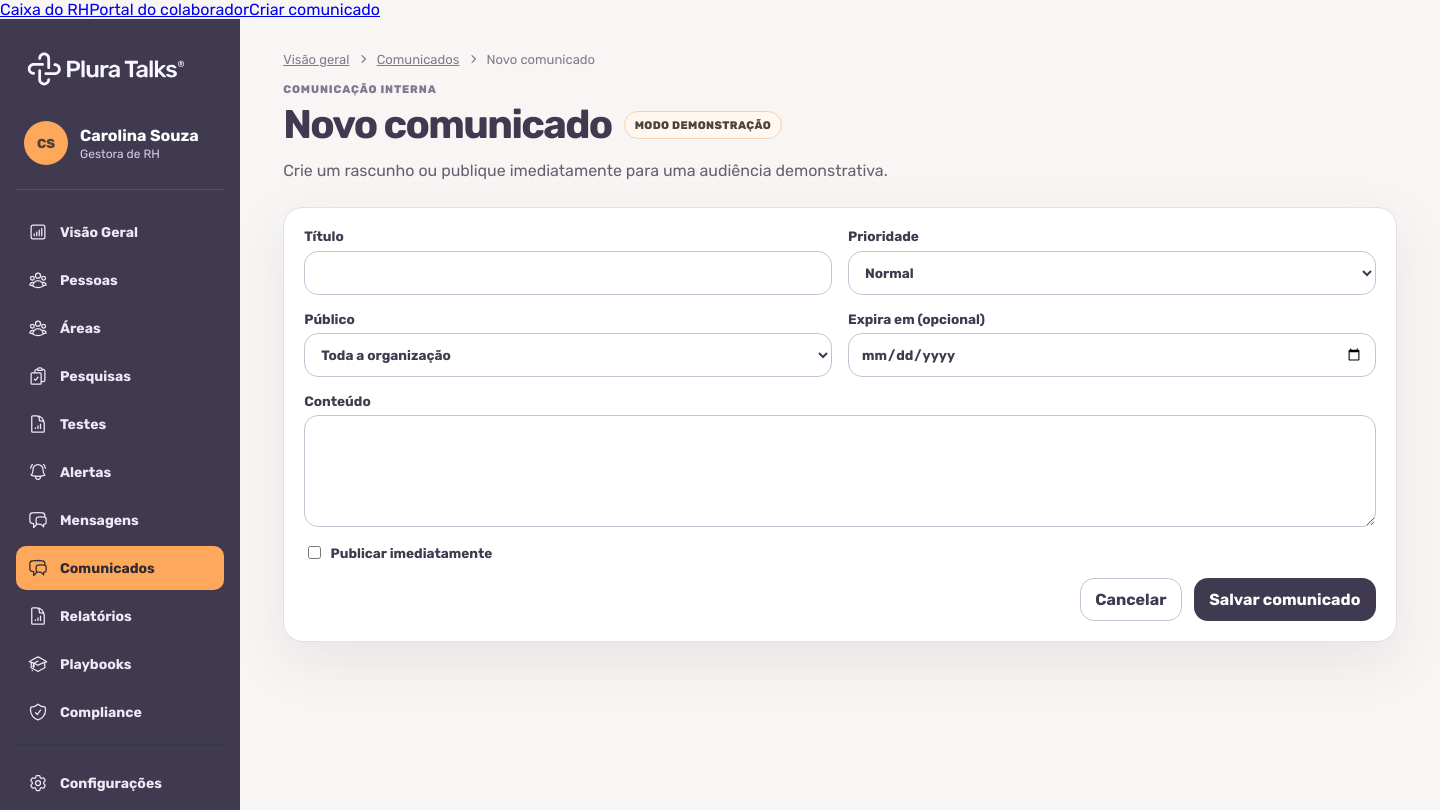
Test: estado compartilhado de mensagens › publica comunicado segmentado e o mostra ao colaborador elegível
This screenshot has width=1440, height=810.
Step 1. Type "Oficina do time de Produto" into the field labelled "Título" → (568, 273), box [304,251,832,295]
Step 2. Select "Áreas selecionadas" in the dropdown labelled "Público" → (568, 355), box [304,333,832,377]
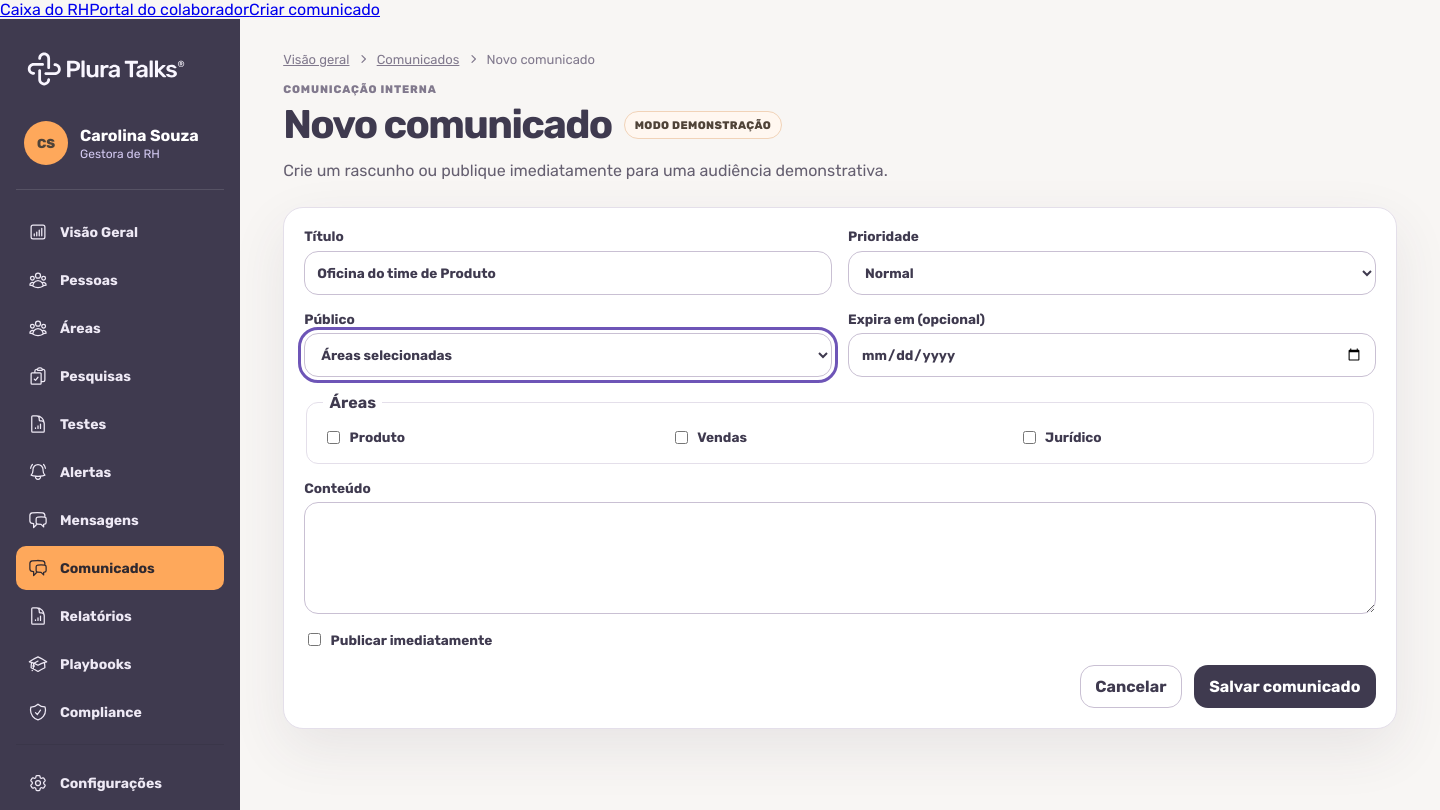
Step 3. Click the checkbox labelled "Produto" → (334, 438), box [327,431,340,444]
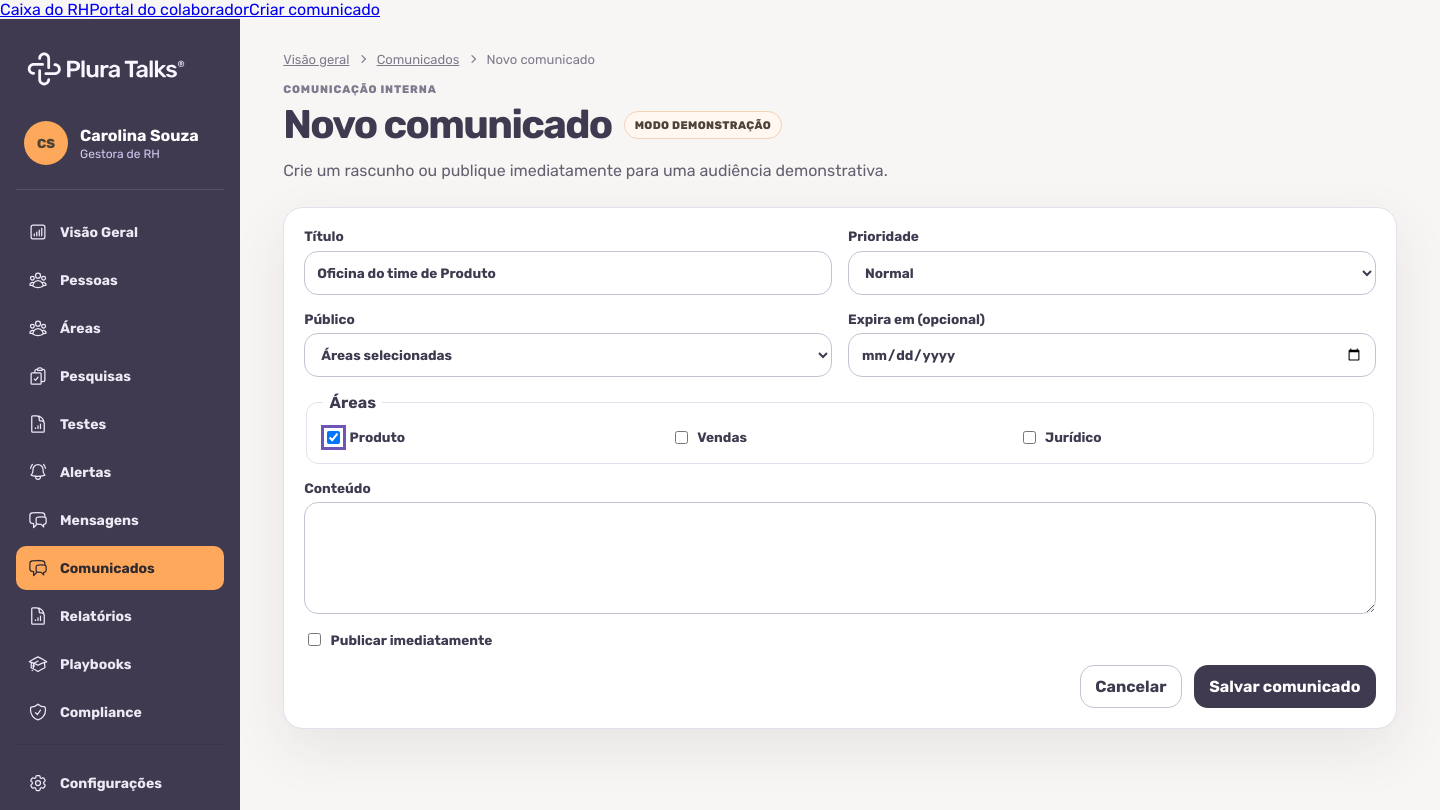
Step 4. Type "Encontro fictício marcado para a próxima quinta-feira." into the text box labelled "Conteúdo" → (840, 558), box [304,502,1376,614]
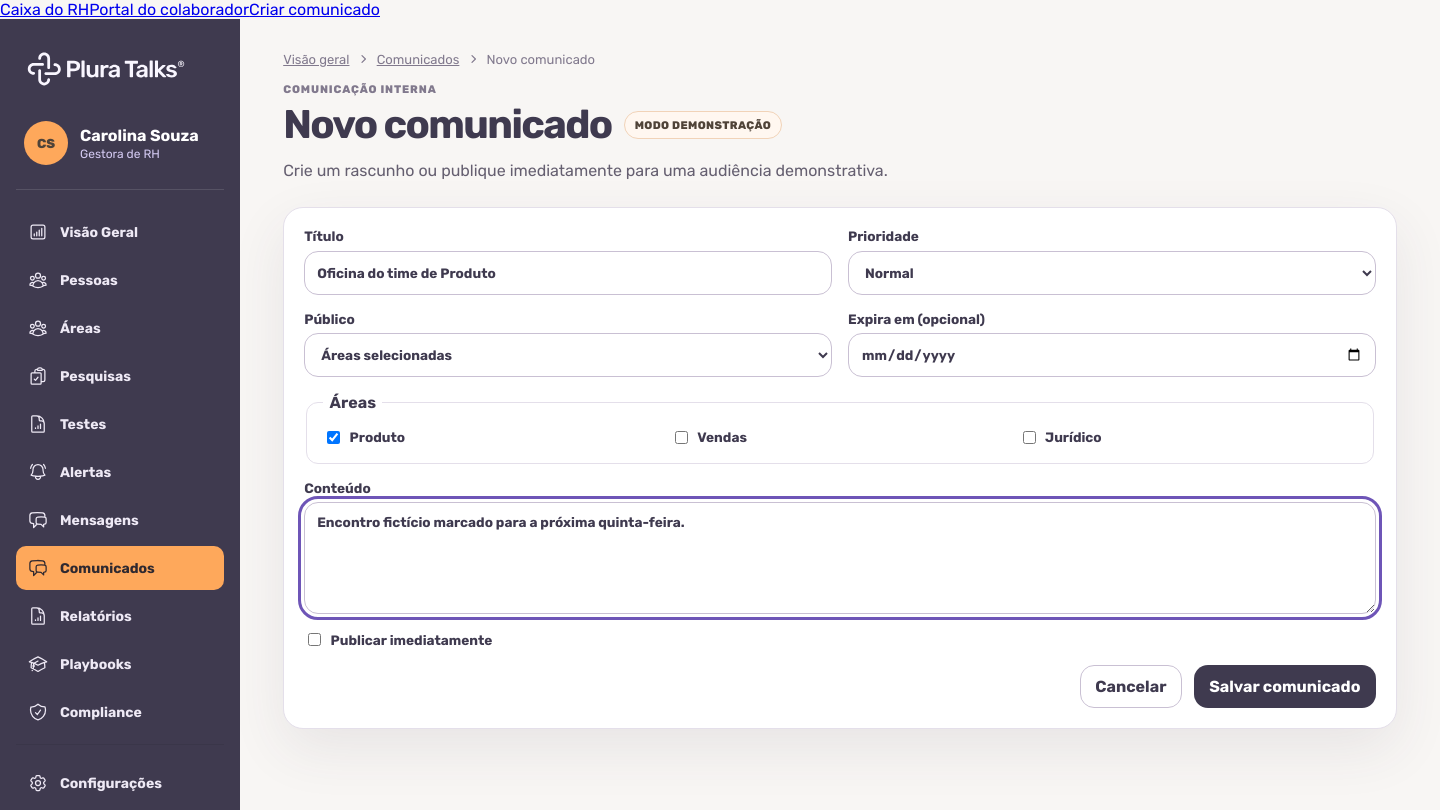
Step 5. Click the checkbox labelled "Publicar imediatamente" → (315, 640), box [308,633,321,646]
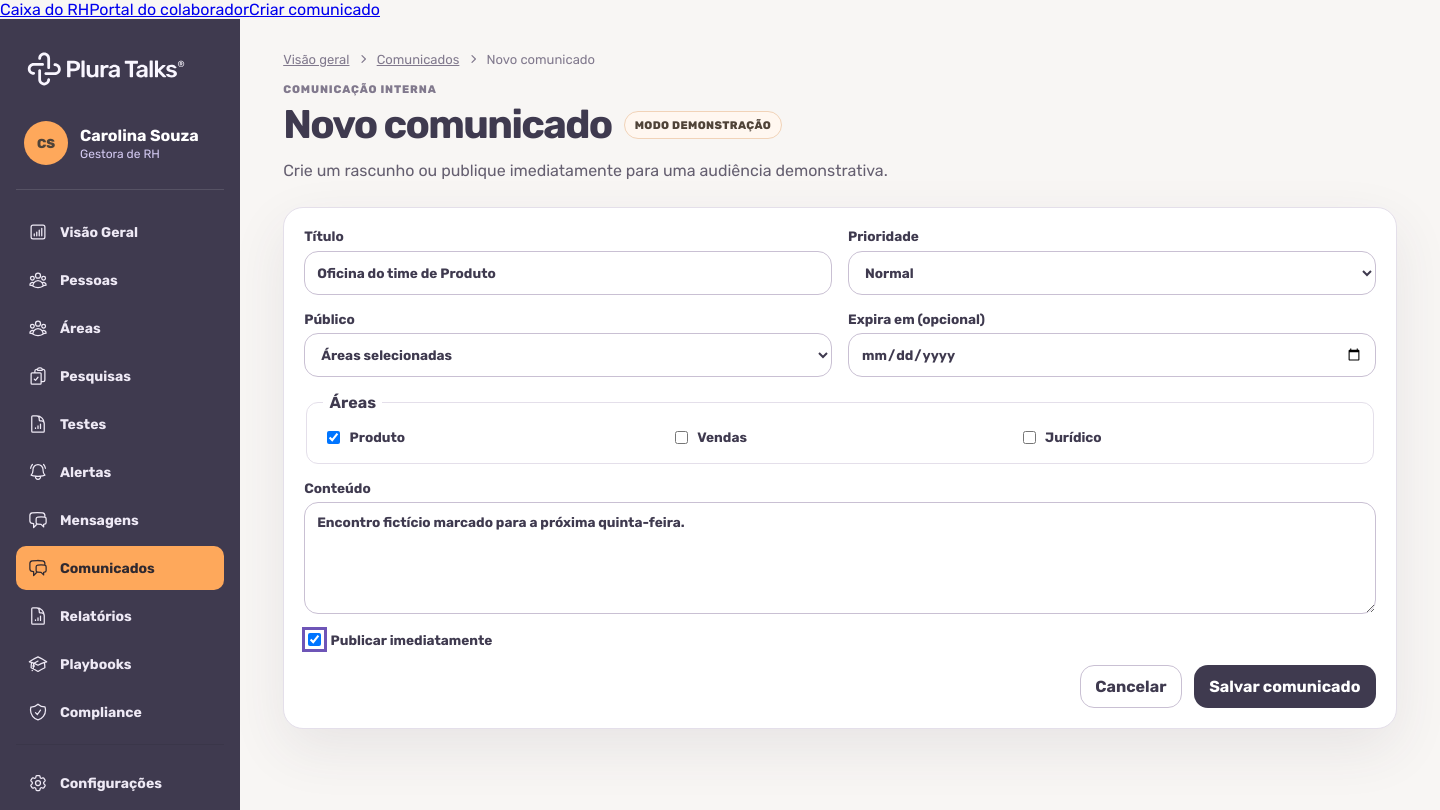
Step 6. Click the button "Salvar comunicado" → (1285, 686), box [1194,665,1376,708]
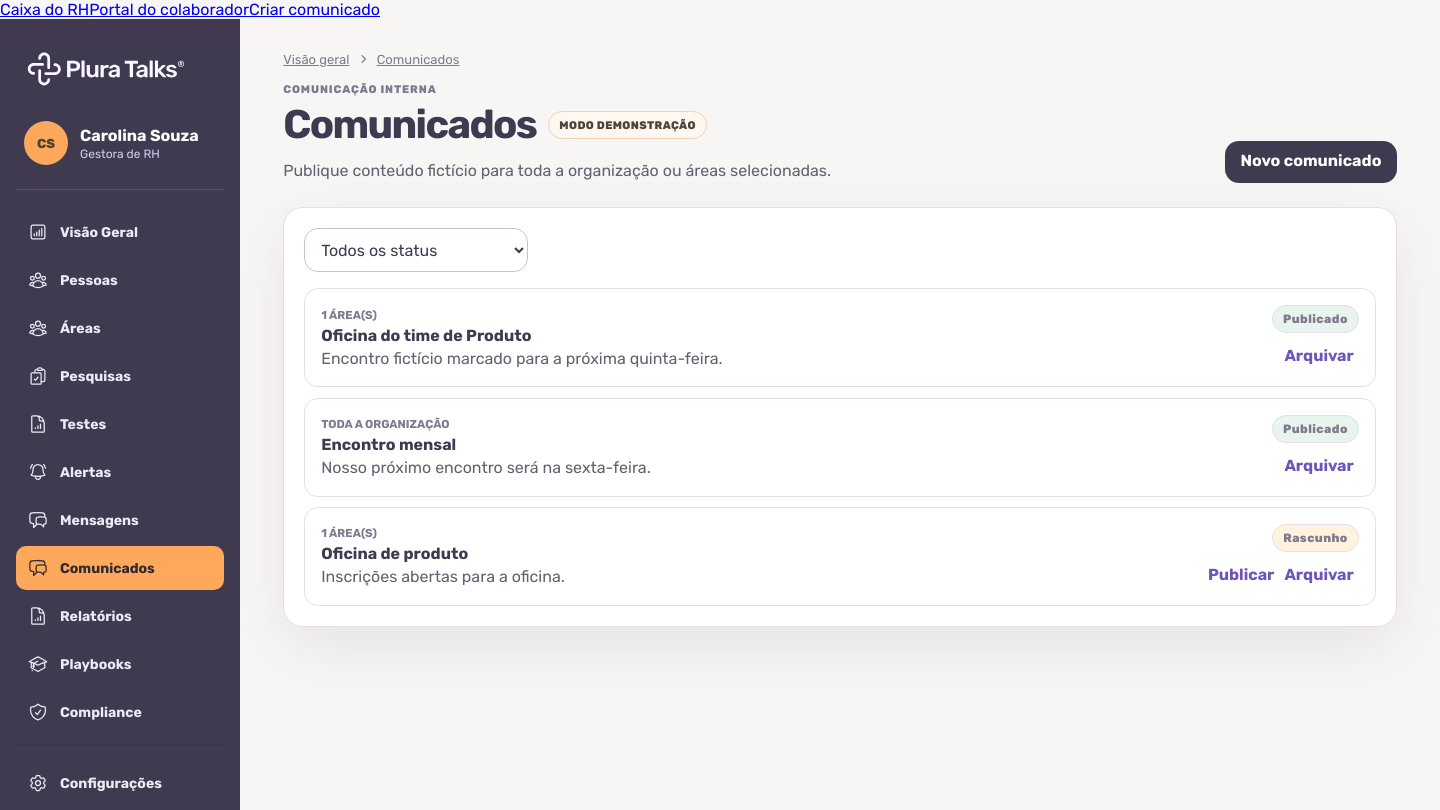
Expected: the text "Oficina do time de Produto" is shown, [321,326,531,345]
Step 7. Click the link "Portal do colaborador" → (169, 10), box [89,0,249,19]
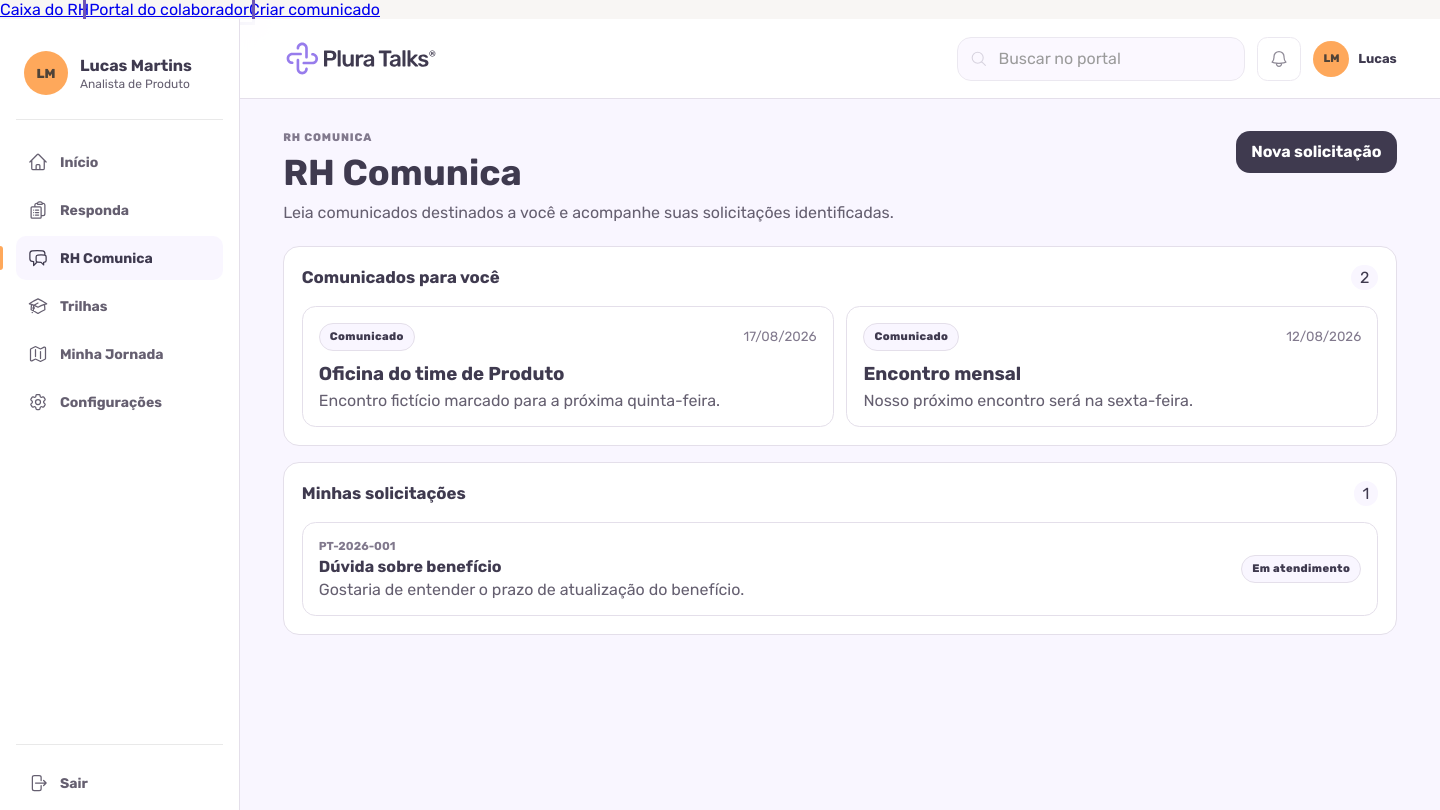
Expected: the heading "Oficina do time de Produto" is shown, [319,363,565,385]
Expected: the element "Comunicados para você" is shown, [283,246,1397,446]
